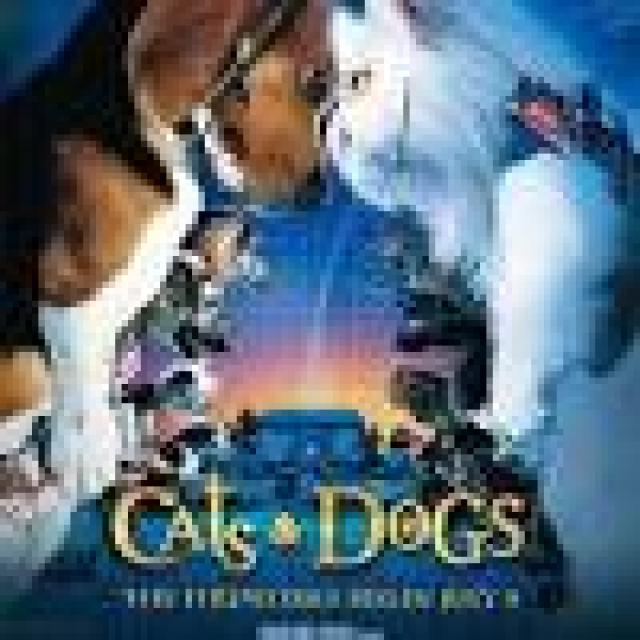cat: (326, 0, 640, 448)
dog: (1, 0, 330, 489)
